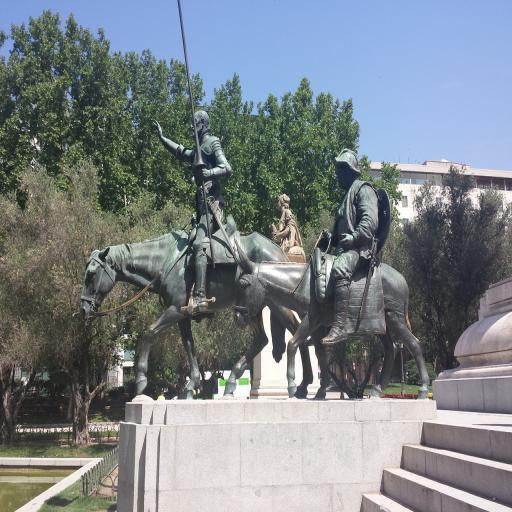horse: (78, 228, 312, 400)
